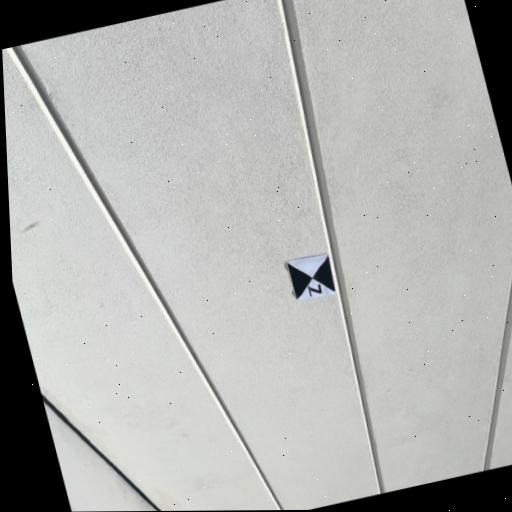target7: (285, 252, 336, 301)
